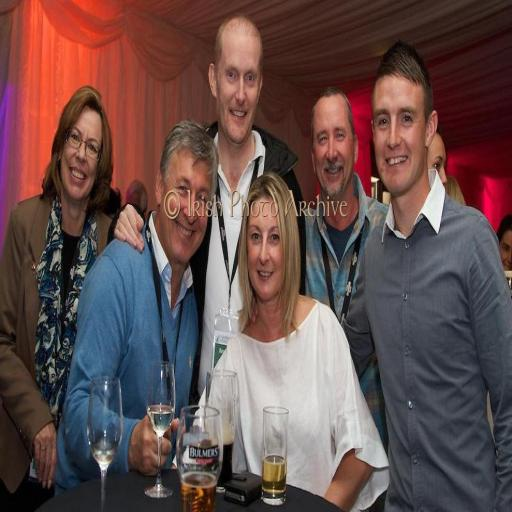person: (343, 42, 511, 511), (56, 121, 217, 491), (218, 174, 388, 511), (0, 87, 112, 509), (191, 15, 302, 402), (305, 88, 387, 320), (428, 128, 447, 185), (125, 180, 148, 218), (497, 215, 511, 270), (444, 175, 466, 206)
